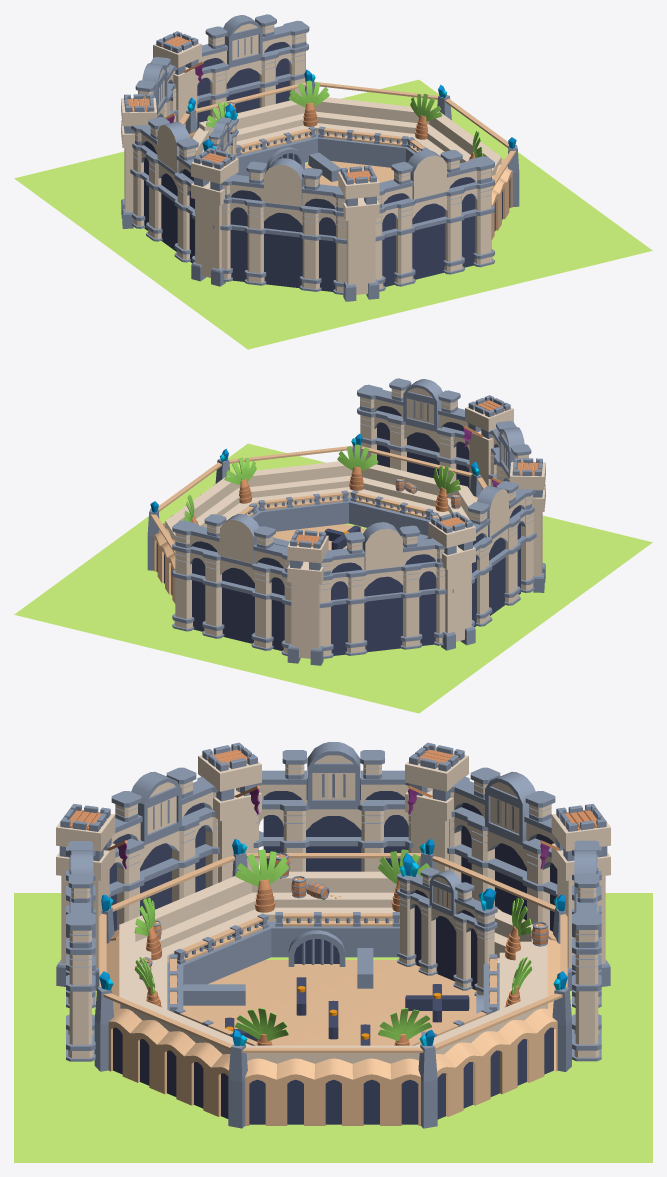
File: ARENANEW1.fbx
3 views of the same model, one above another, from view 1: azimuth 30°, elevation 25°; view 2: azimuth 150°, elevation 25°; view 3: azimuth 270°, elevation 25° (orthographic). The views are drawn at different scales.
Parts seen in each view (by area): view 1: Plane.021, Plane.063, Plane.062, Plane.064, Cube.052, Cube.050, Cube__6__1.004, Cube__6__1.002, Plane.029, Cube__7_.001, Cube__15__3.008, Cube__6__1.003 (+15 smaller); view 2: Plane.021, Plane.063, Plane.062, Plane.064, Cube.052, Cube.050, Cube__6__1.004, Cube__6__1.002, Plane.029, Cube__6_, Cube__15__3.008, Cube__6__1.003 (+14 smaller); view 3: Plane.021, Plane.062, Plane.063, Cube__10__3, Plane.058, Cube__10__3.001, Cube.050, Cube.052, Plane.029, Plane.060, Cube__15__3.008, Plane.064 (+32 smaller).
Boxes of the visible parts, x1,y1,x2,y2 form: Plane.021: [14, 79, 652, 349]; Plane.063: [130, 14, 309, 262]; Plane.062: [135, 57, 347, 294]; Plane.064: [363, 149, 494, 291]; Cube.052: [153, 31, 379, 301]; Cube.050: [121, 94, 238, 286]; Cube__6__1.004: [197, 42, 475, 286]; Cube__6__1.002: [230, 190, 335, 291]; Plane.029: [206, 80, 482, 161]; Cube__7_.001: [313, 133, 405, 167]; Cube__15__3.008: [179, 82, 515, 190]; Cube__6__1.003: [144, 141, 194, 263]; Plane.021: [14, 443, 652, 713]; Plane.063: [172, 481, 536, 655]; Plane.062: [319, 421, 531, 658]; Plane.064: [357, 378, 469, 489]; Cube.052: [287, 395, 513, 665]; Cube.050: [428, 458, 545, 650]; Cube__6__1.004: [192, 406, 469, 650]; Cube__6__1.002: [331, 554, 436, 655]; Plane.029: [184, 444, 460, 525]; Cube__6_: [255, 497, 350, 531]; Cube__15__3.008: [150, 445, 487, 554]; Cube__6__1.003: [471, 505, 520, 626]; Plane.021: [14, 893, 652, 1162]; Plane.062: [109, 767, 557, 929]; Plane.063: [236, 742, 601, 1061]; Cube__10__3: [108, 898, 557, 1119]; Plane.058: [183, 960, 476, 1045]; Cube__10__3.001: [245, 1058, 420, 1125]; Cube.050: [198, 742, 468, 882]; Cube.052: [56, 804, 610, 990]; Plane.029: [134, 849, 532, 1045]; Plane.060: [397, 867, 497, 995]; Cube__15__3.008: [99, 853, 567, 1052]; Plane.064: [66, 841, 95, 1061].
Size of the model in its own units: 40000 by 13732 by 40000.
